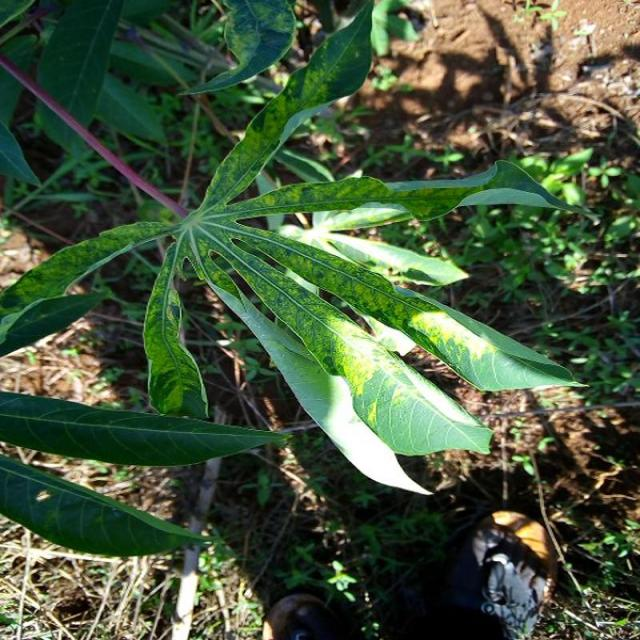cassava leaf: (1, 1, 589, 513), (0, 387, 293, 467), (0, 454, 213, 558)
